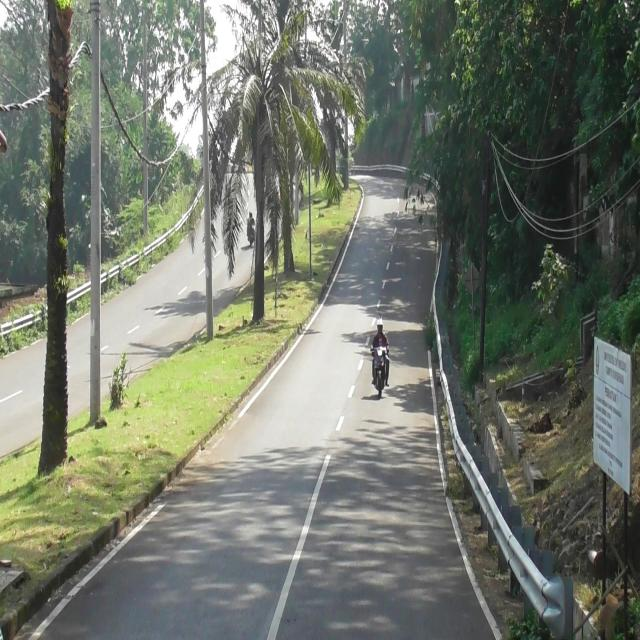motorcycle: (372, 346, 388, 398), (248, 226, 256, 246)
person: (372, 319, 389, 358), (246, 211, 256, 228)
rider_region: (372, 317, 390, 398), (247, 210, 256, 246)
